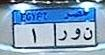1: (31, 27, 38, 43)
noon: (82, 26, 93, 41)
raa: (57, 29, 68, 42)
waw: (70, 28, 81, 41)
